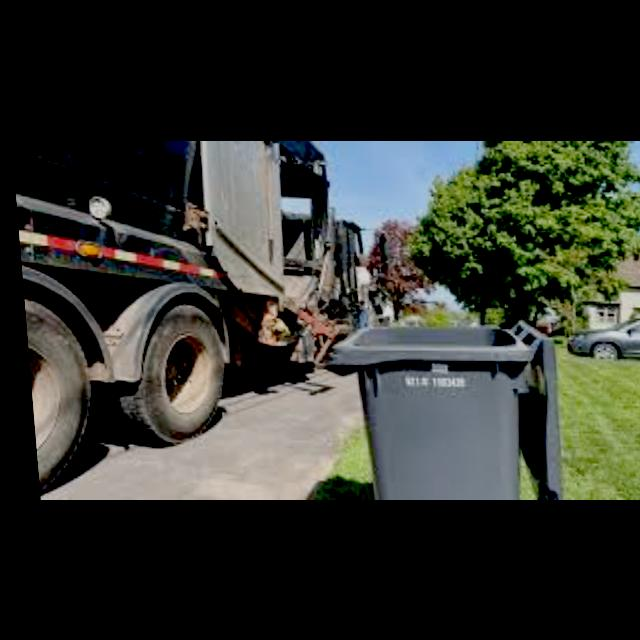Trash_Can_Empty: (318, 322, 535, 500)
